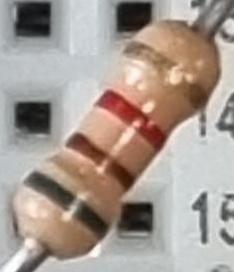Brown: (65, 129, 141, 193)
Green: (22, 165, 113, 245)
Red: (95, 87, 171, 155)
Side-Gold: (122, 35, 213, 109)
